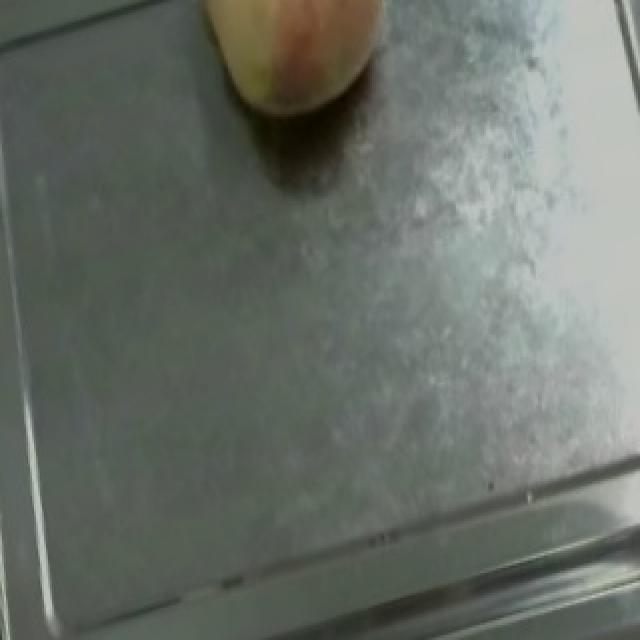Fruit: (166, 0, 416, 151)
